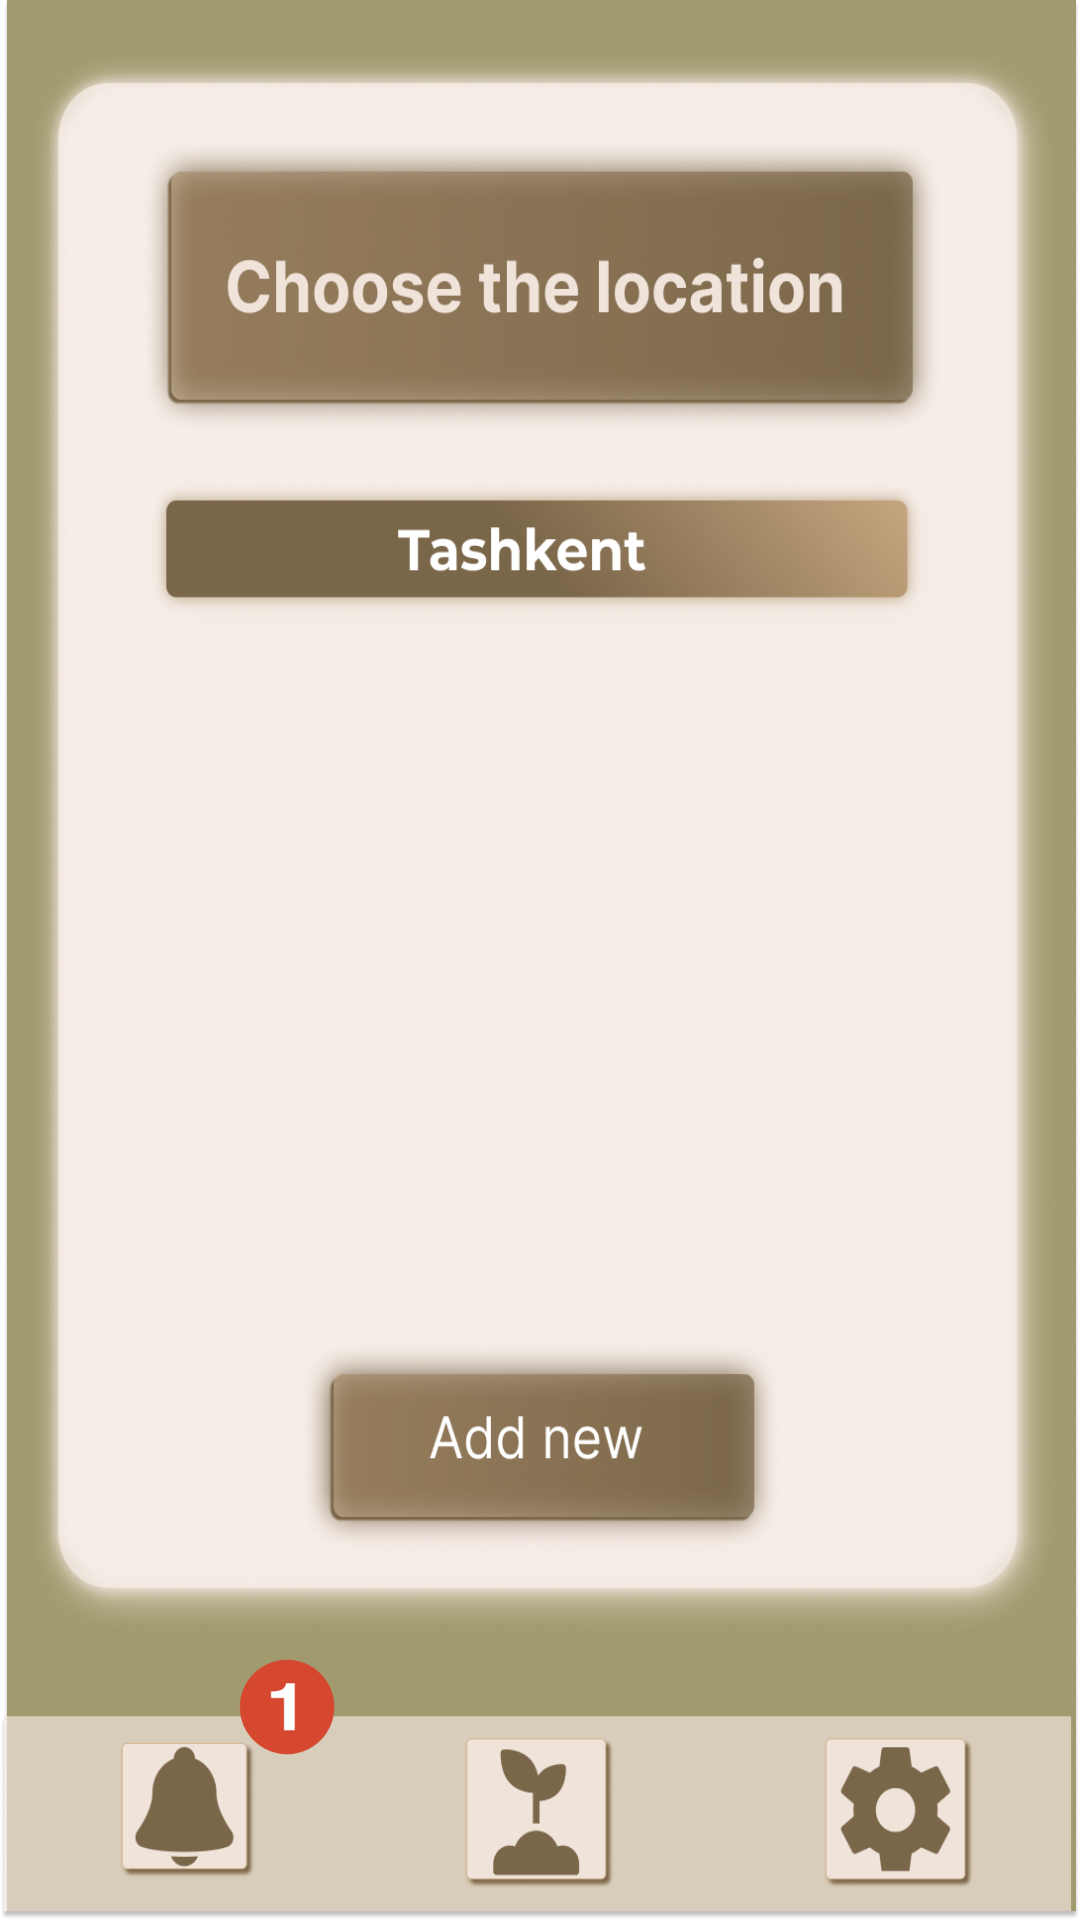

Point at icon controls on the screen. Image size 1080×1920, points as [x,y].
number: [288,1707]
